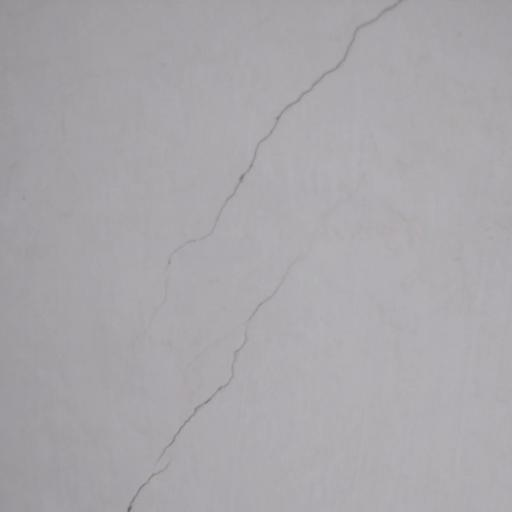minor_crack: (119, 0, 392, 512)
